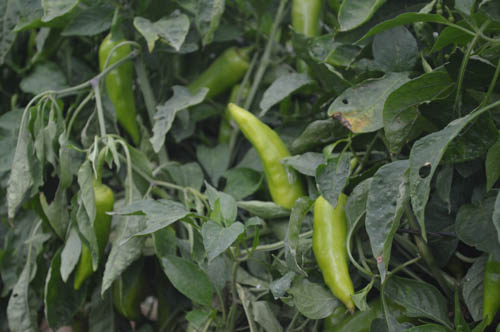ChiliPepper: (228, 101, 305, 214), (309, 188, 357, 312), (73, 188, 112, 290), (102, 37, 135, 140), (179, 49, 252, 94), (288, 1, 321, 94), (221, 86, 250, 146)
